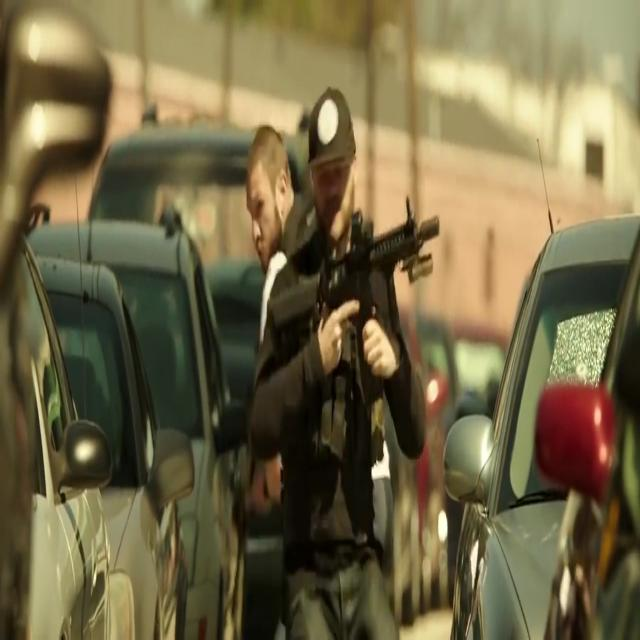Weapon: (258, 255, 435, 481)
